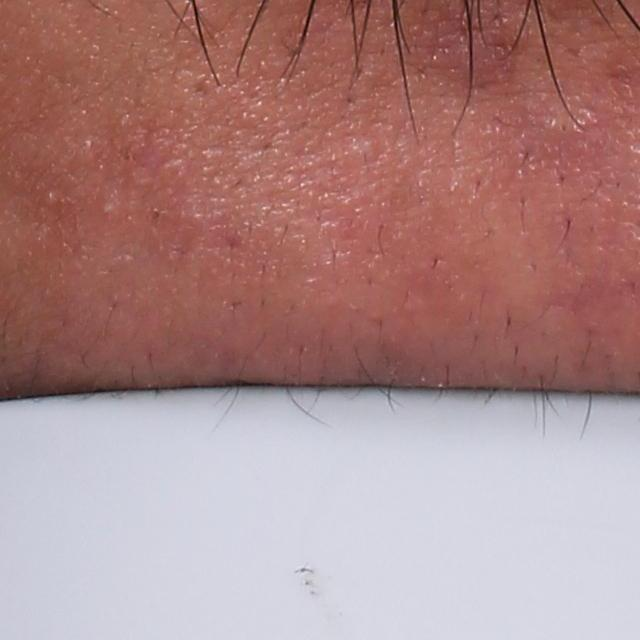comedo: (537, 95, 584, 142), (101, 203, 119, 216)
